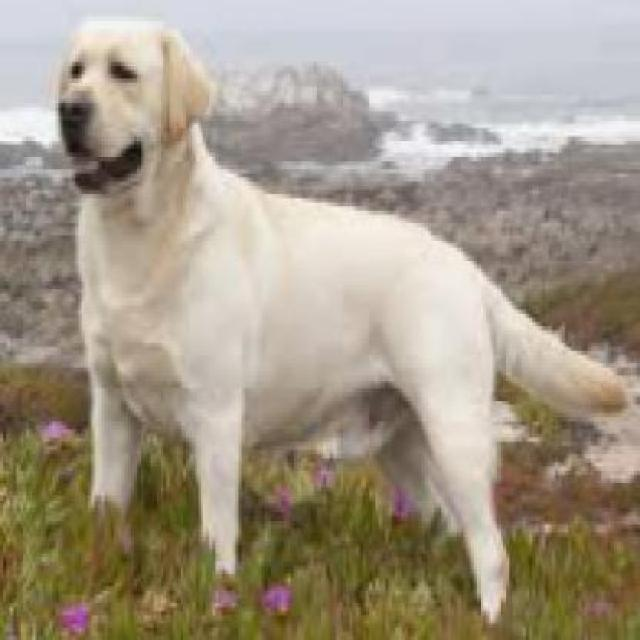Dog: (54, 12, 635, 625)
